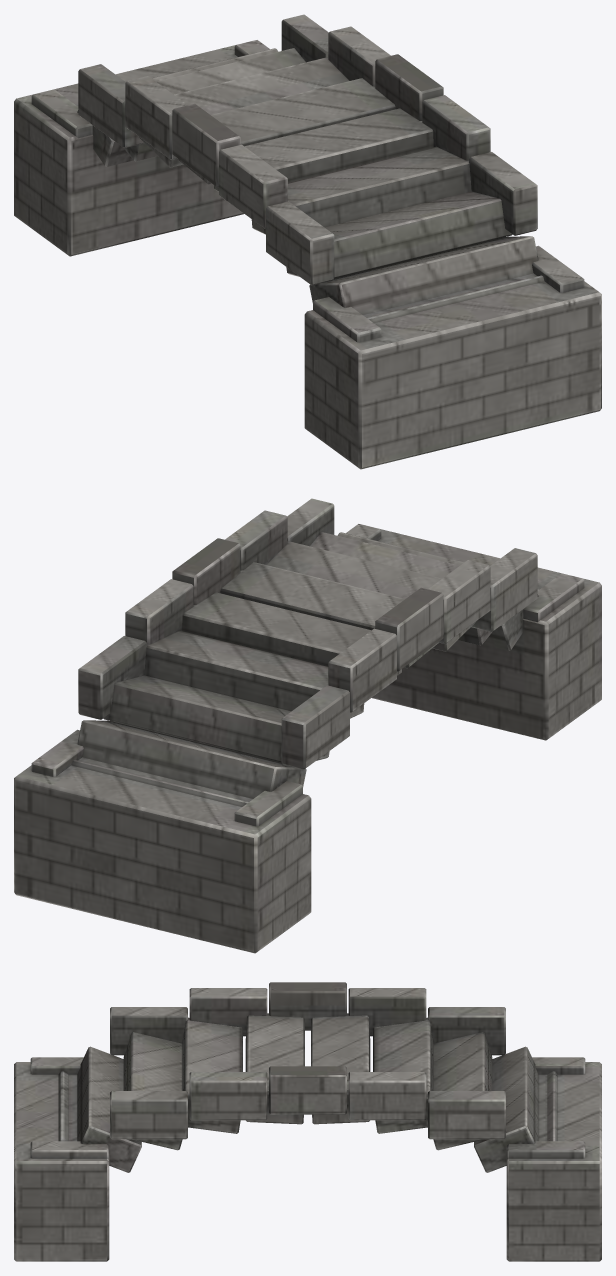
File: ponte.glb
3 views of the same model, one above another, from view 1: azimuth 30°, elevation 25°; view 2: azimuth 150°, elevation 25°; view 3: azimuth 270°, elevation 25° (orthographic). The views are drawn at different scales.
Visible parts, largest first — view 1: ponte; view 2: ponte; view 3: ponte.
Boxes of the visible parts, <box> form: ponte: <box>14,14,601,469</box>; ponte: <box>14,498,601,953</box>; ponte: <box>14,982,601,1261</box>.
Bounding box in the file's own units: 3 × 2.55 × 7.4.
Materials: 1 (1 with a texture image).
